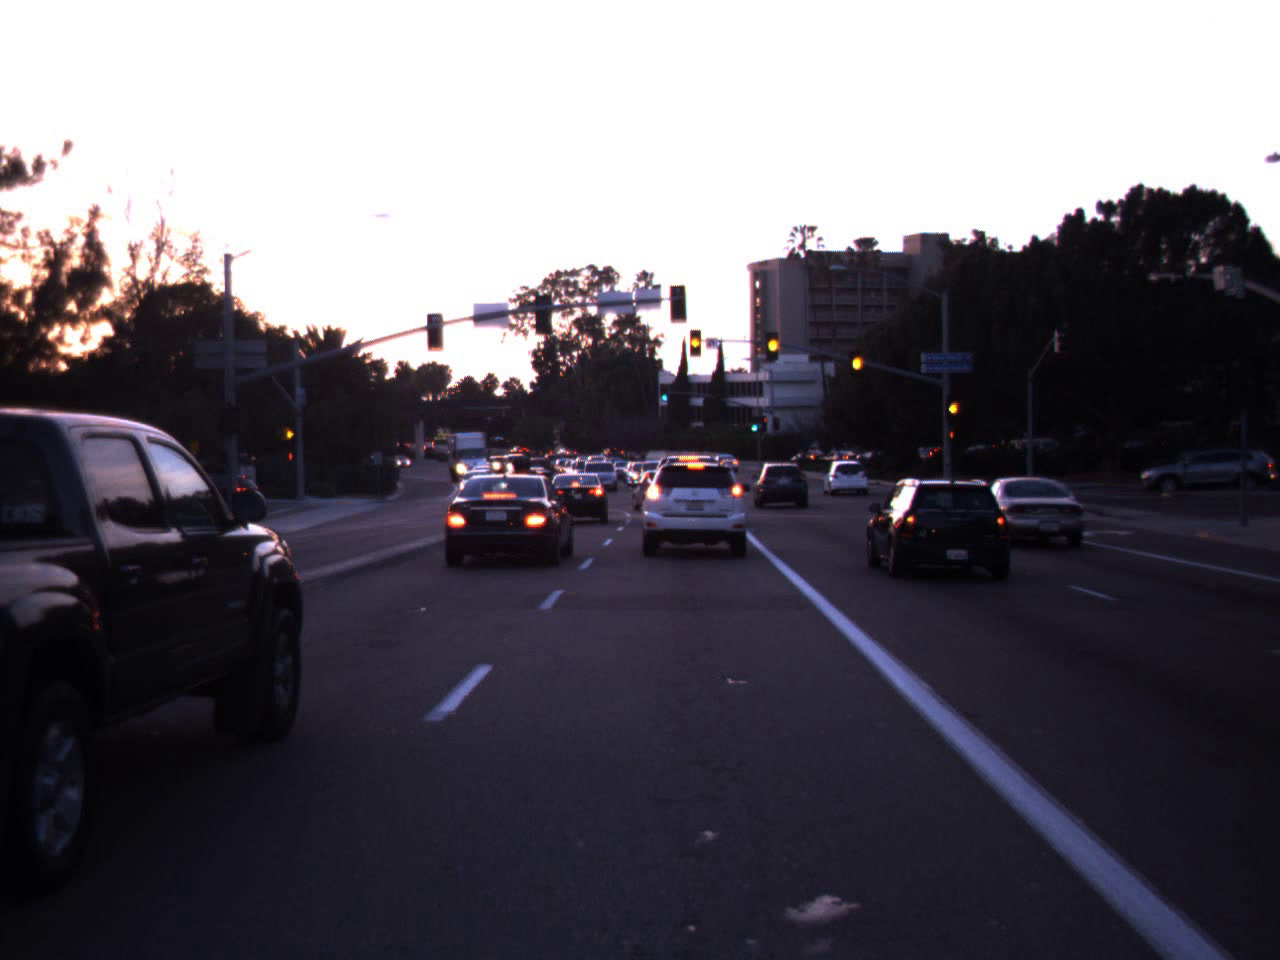go: (658, 382, 670, 402), (748, 412, 760, 432)
warning: (278, 407, 302, 456), (764, 320, 785, 365), (849, 336, 867, 385), (685, 326, 706, 357), (944, 389, 962, 425)
